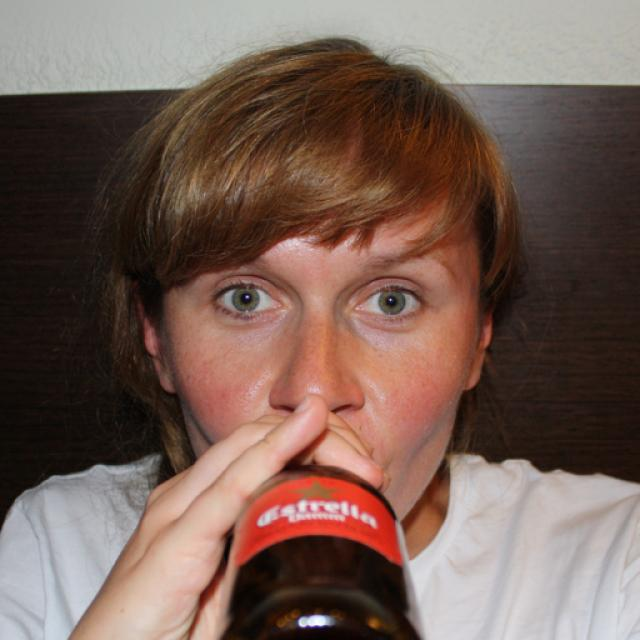fear: (164, 124, 476, 524)
